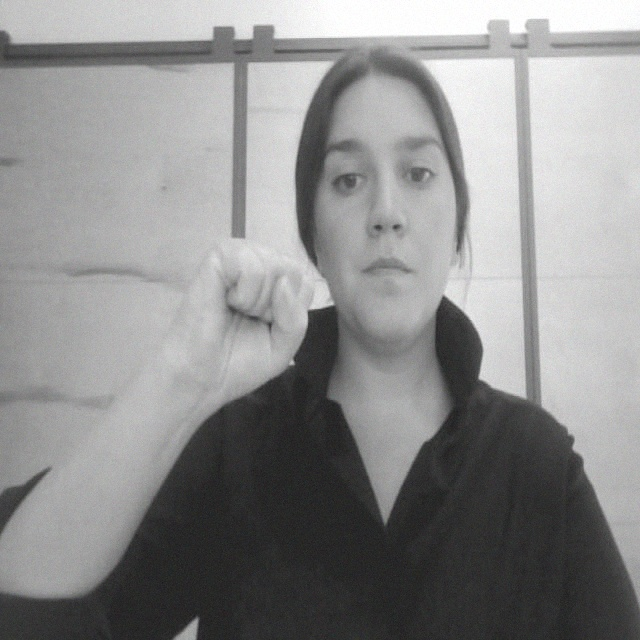Rock: (176, 236, 318, 405)
